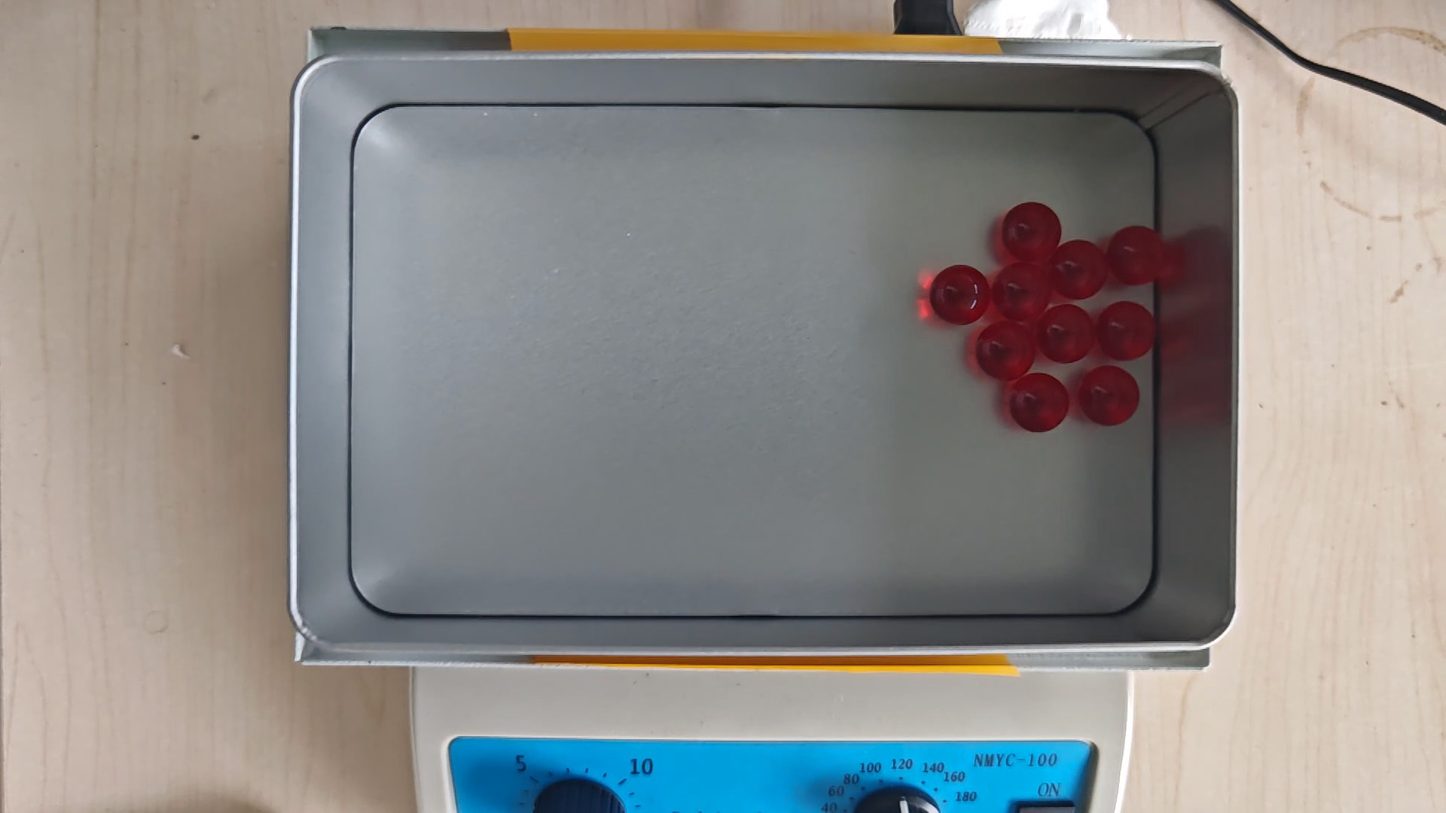ball: (1080, 365, 1140, 427), (1009, 373, 1069, 434), (931, 264, 989, 326), (976, 320, 1035, 380), (1002, 201, 1061, 261), (1097, 300, 1155, 361), (1107, 226, 1165, 284), (1038, 305, 1095, 363), (1052, 240, 1105, 299), (995, 263, 1048, 319)
container: (350, 106, 1156, 617)
